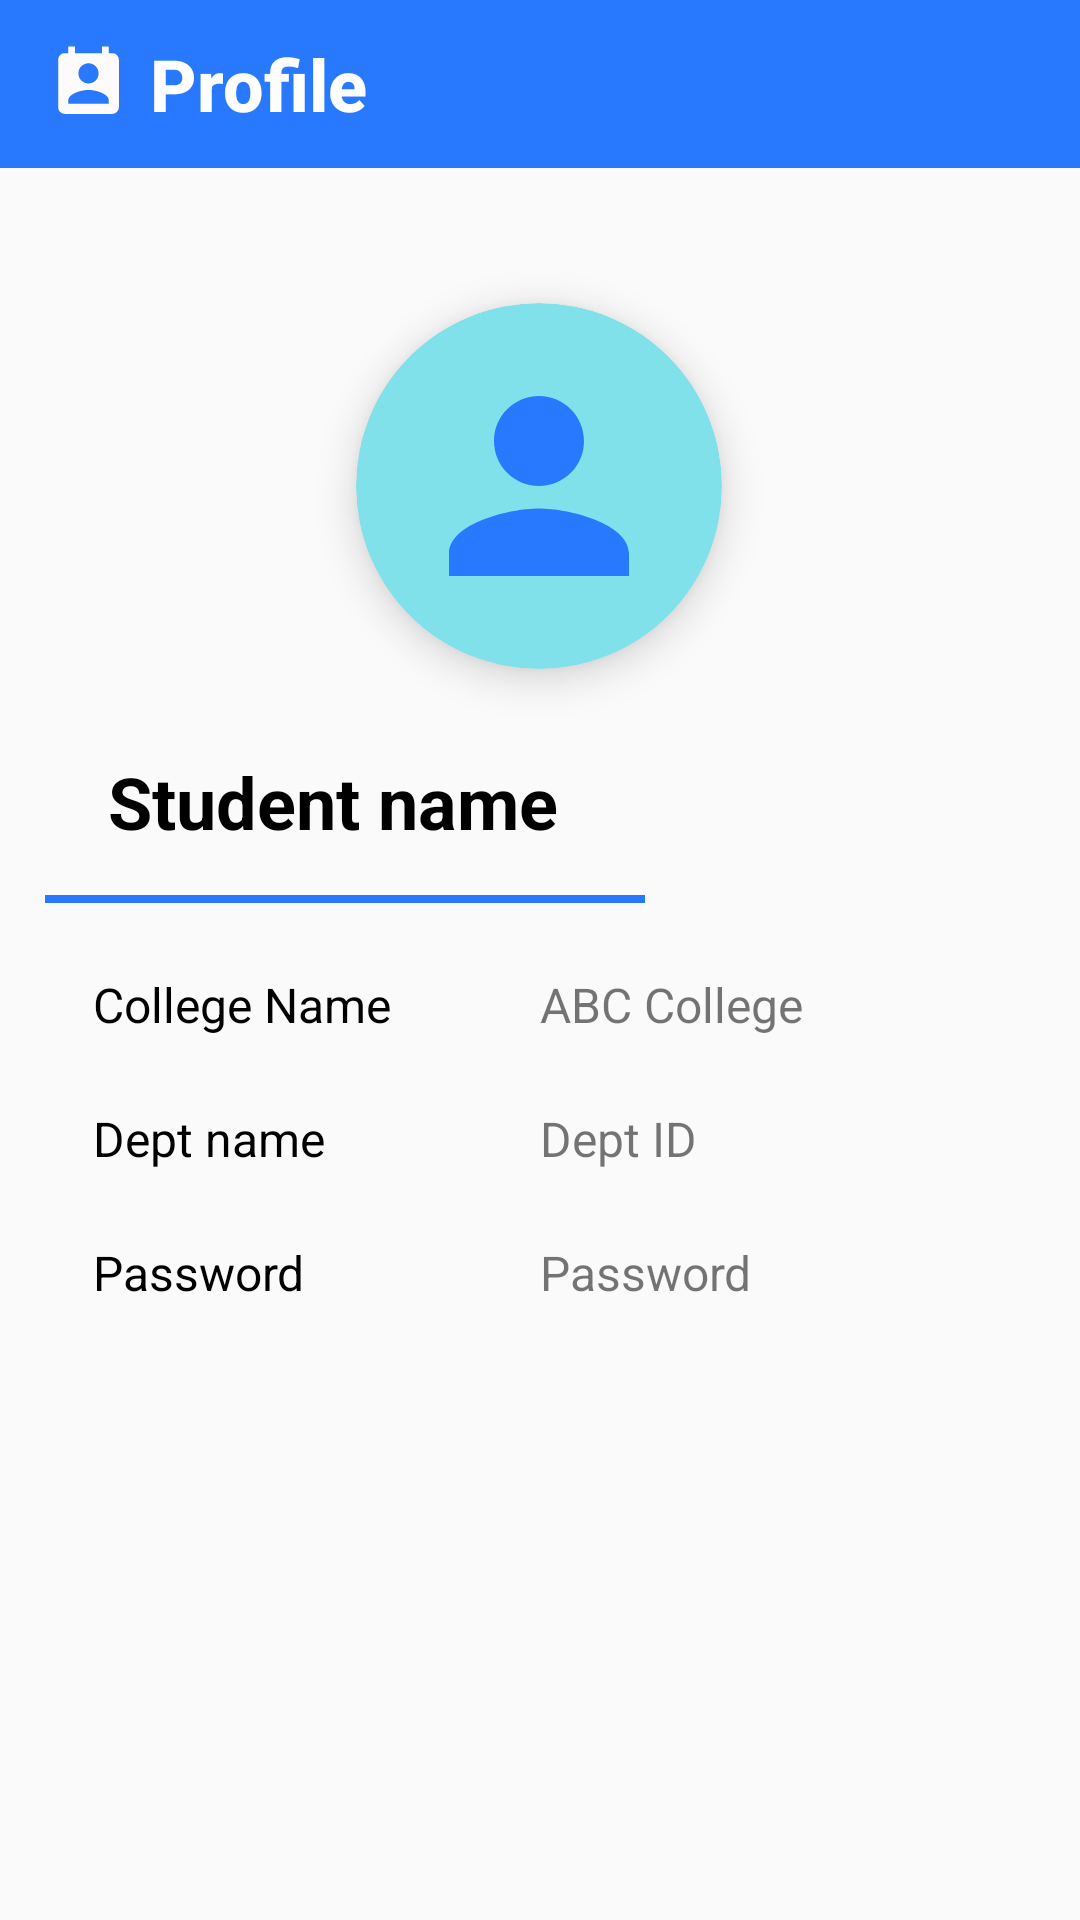

Icons on this 1080w x 1920h Android screen, each with the point to tap as (x=x, y=y):
profile: (x=539, y=486)
